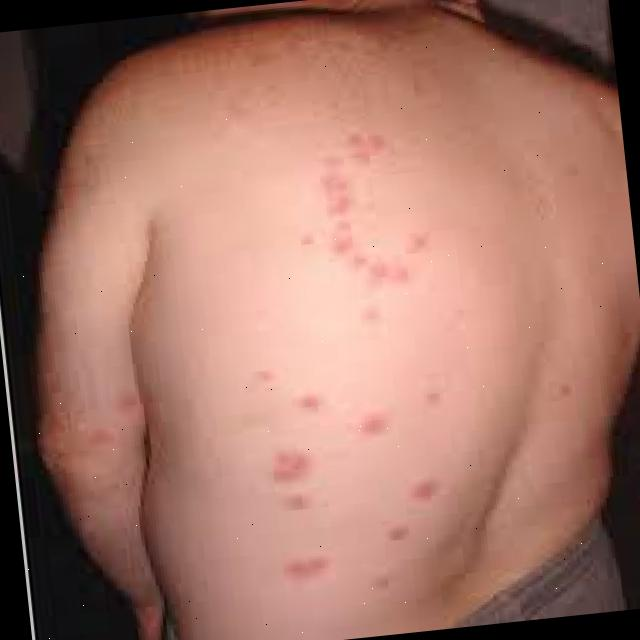kan emici bocekler: (274, 547, 343, 596), (262, 445, 322, 490), (315, 171, 366, 221), (331, 220, 366, 271), (350, 130, 386, 174), (399, 478, 450, 509), (352, 298, 398, 331), (375, 519, 416, 556), (404, 223, 436, 263), (357, 412, 390, 446), (293, 229, 326, 262), (374, 261, 405, 291), (416, 387, 446, 415), (253, 368, 287, 391), (298, 387, 321, 417), (369, 570, 398, 593)
